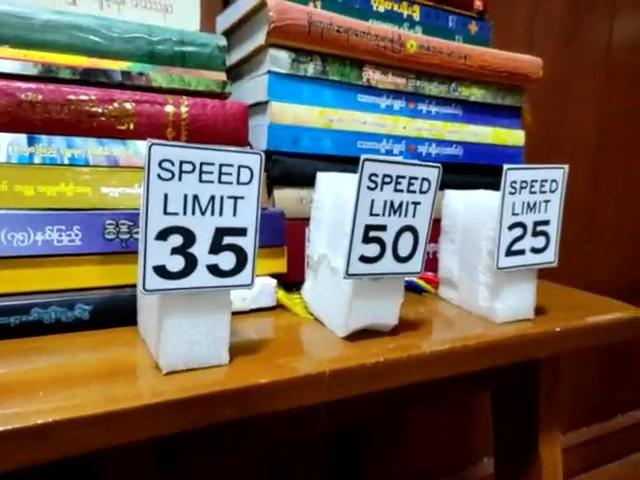Speed Limit 25: (493, 162, 569, 268)
Speed Limit 35: (138, 139, 262, 287)
Speed Limit 50: (343, 154, 441, 277)
